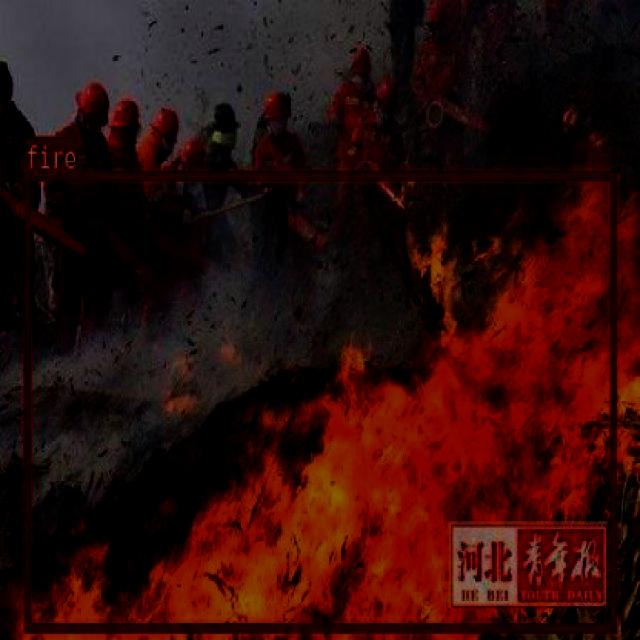fire: (22, 170, 616, 632)
